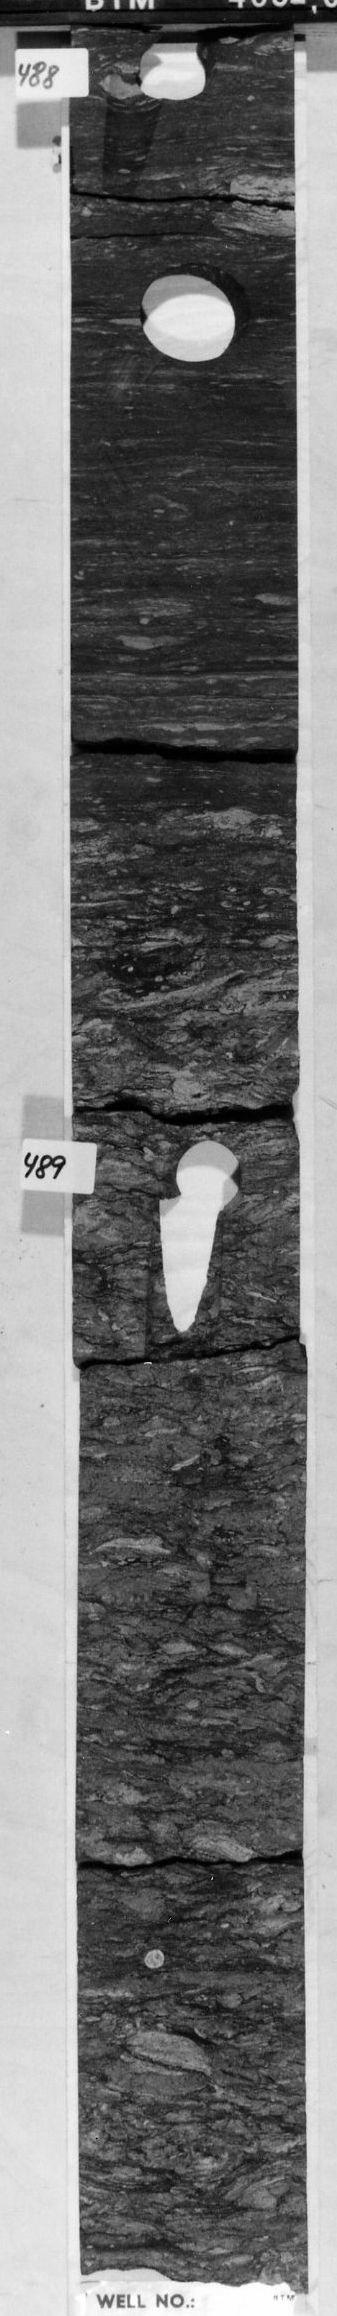hplug: (164, 1136, 254, 1208), (132, 41, 225, 102)
scal: (132, 258, 256, 368)
vplug: (139, 1196, 225, 1346), (93, 95, 163, 202)
